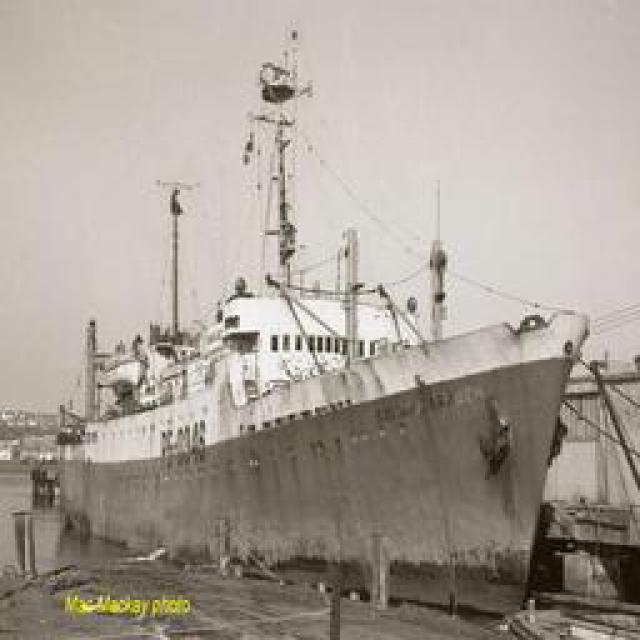Ship: (42, 207, 590, 550)
